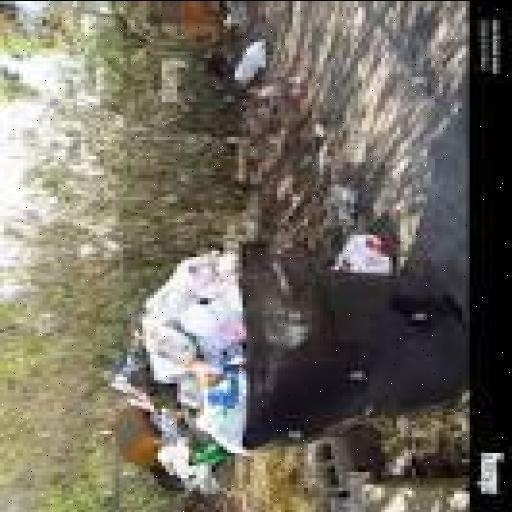poubelle_pleine: (120, 228, 472, 482)
